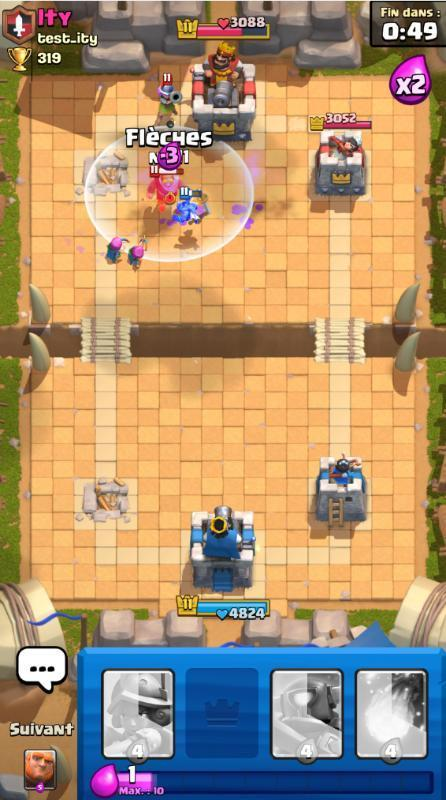enemy_knight: (143, 164, 187, 212)
enemy_musketeer: (151, 73, 186, 113)
player_archers: (101, 230, 129, 262), (125, 236, 150, 267)
player_minions: (167, 186, 213, 230)
